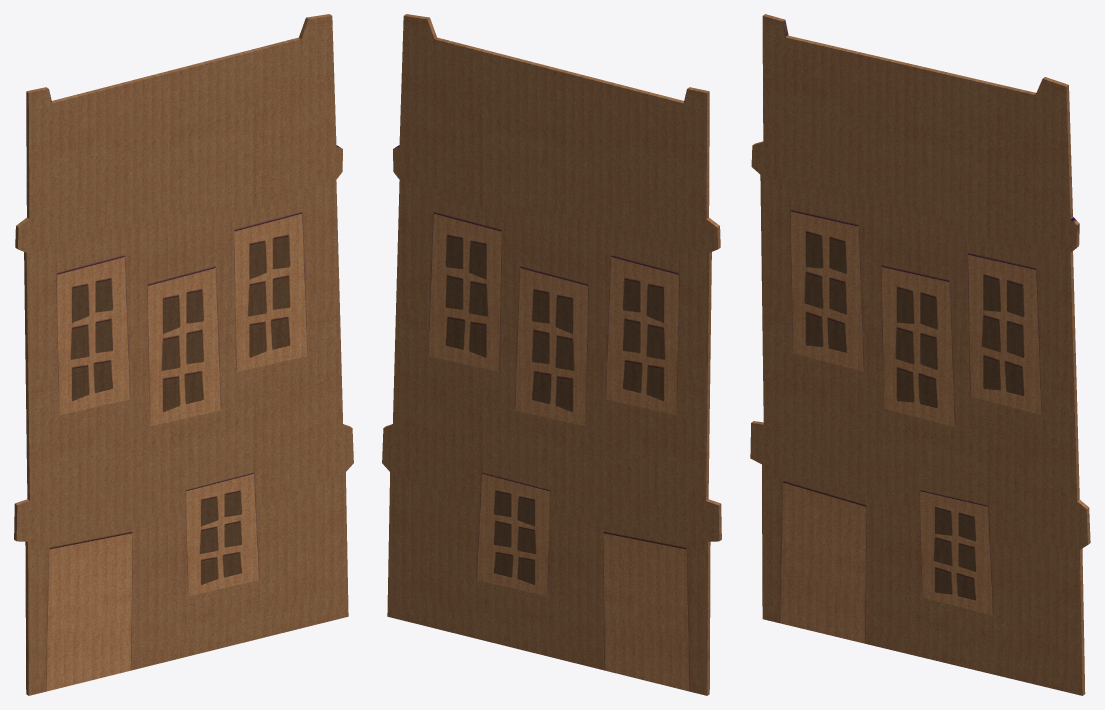
Rendered from house_2.FBX.
The picture shows the model from 3 angles, left to right: view 1: azimuth 30°, elevation 25°; view 2: azimuth 150°, elevation 25°; view 3: azimuth 330°, elevation 25°; orthographic projection.
Visible parts, largest first — view 1: house_2; view 2: house_2; view 3: house_2.
Boxes of the visible parts, x1,y1,x2,y2 form: house_2: (14,14,353,695); house_2: (382,14,721,695); house_2: (750,14,1090,695).
Bounding box in the file's own units: 531 × 914 × 7.
Materials: 1 (1 with a texture image).
